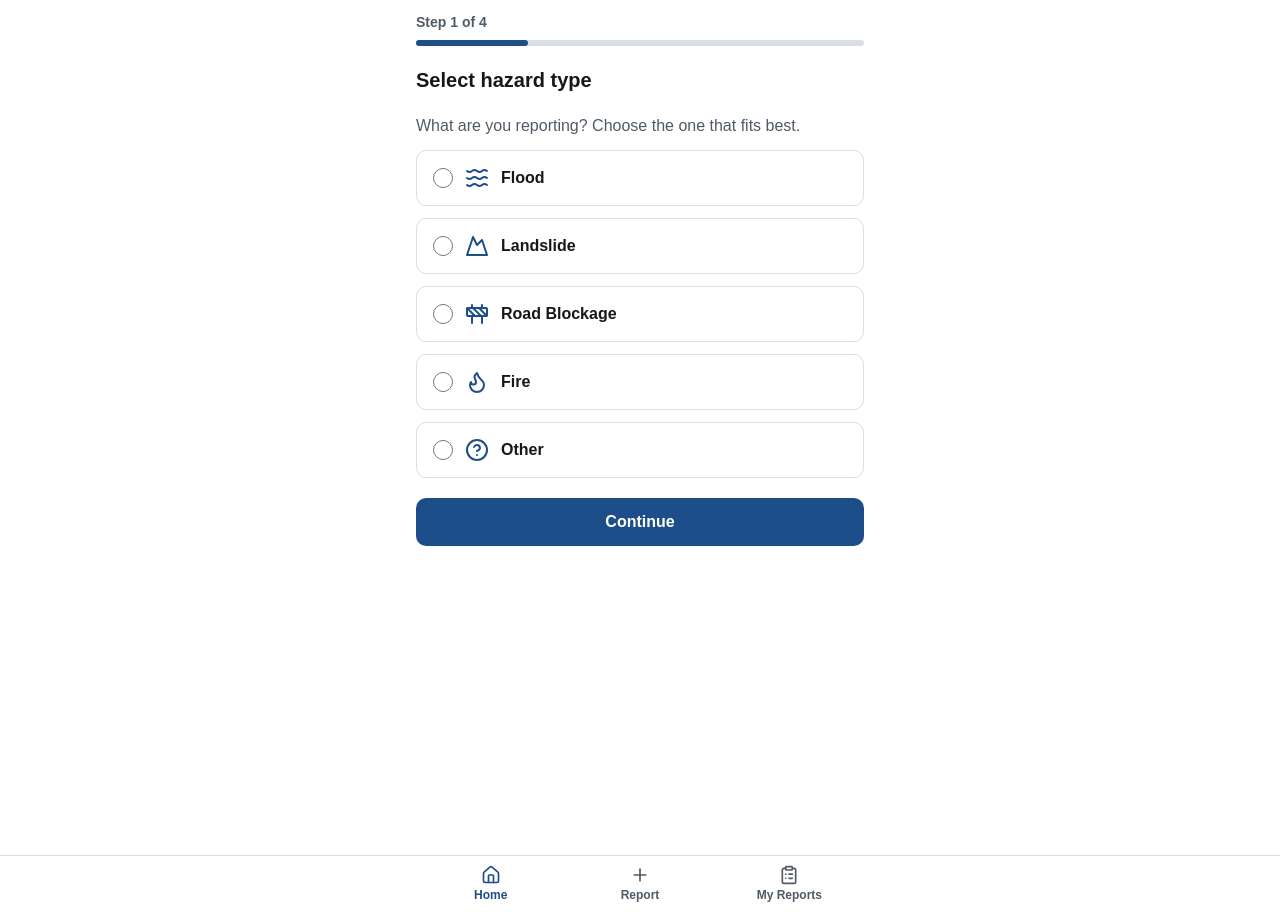
Scenario: NewReportScreen, online › shows the error summary when the reporter continues without choosing a type
Expected: the radio button labelled "Flood" is shown, left=433, top=168, right=453, bottom=188
Click the button "Continue".
click(640, 522)  # box left=416, top=498, right=864, bottom=546
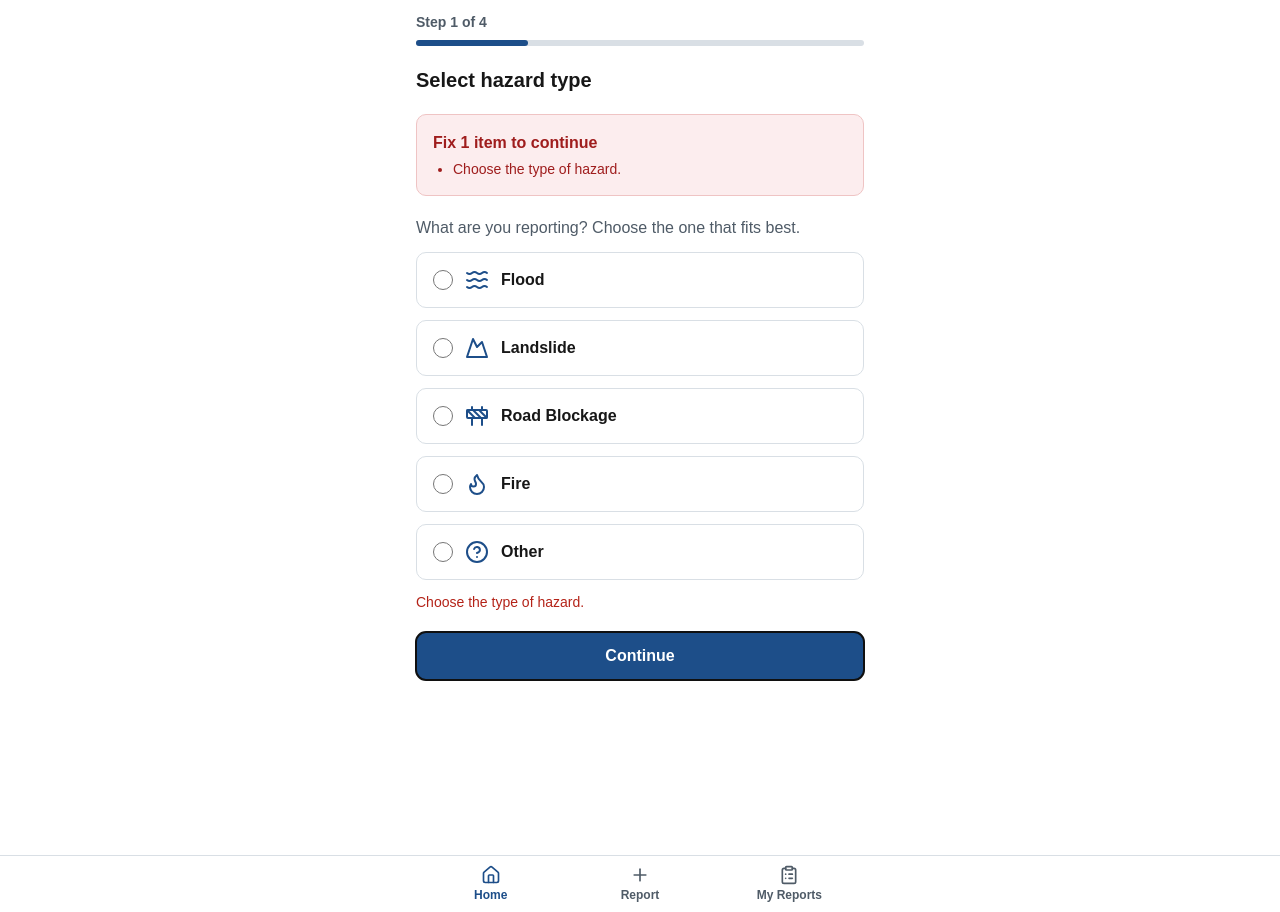
Expected: the message shows "Fix 1 item to continue", left=416, top=114, right=864, bottom=196
Expected: the list item "Choose the type of hazard." is shown, left=453, top=161, right=621, bottom=177
